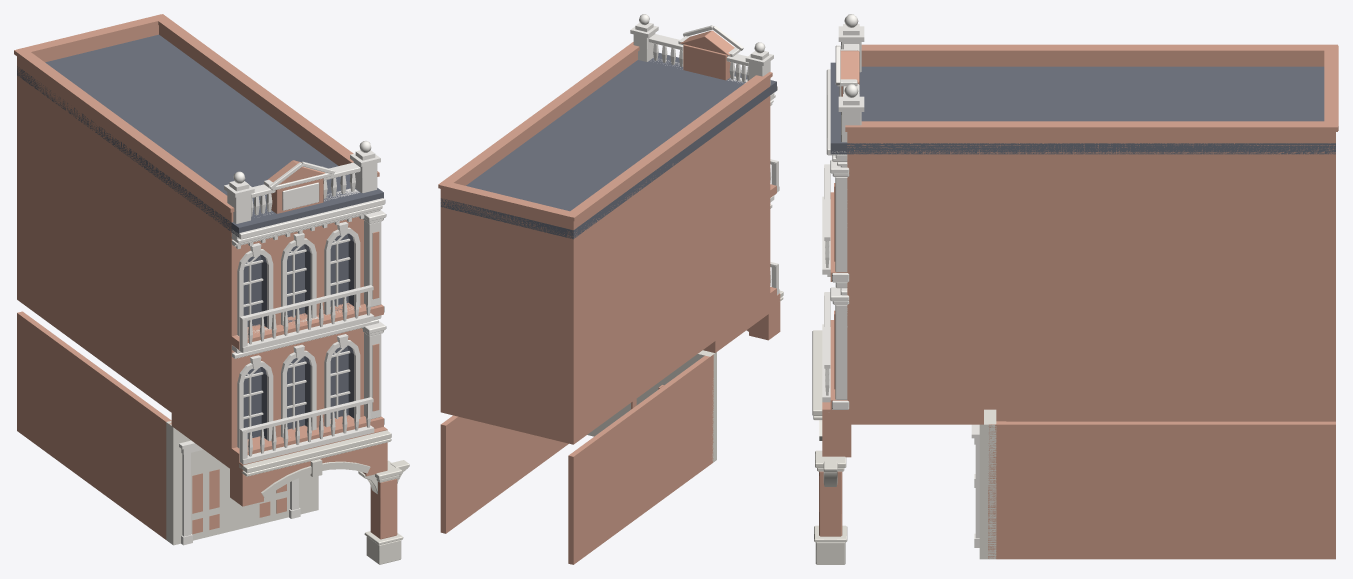
File: dihua-yang.glb
The picture shows the model from 3 angles, left to right: view 1: azimuth 30°, elevation 25°; view 2: azimuth 150°, elevation 25°; view 3: azimuth 270°, elevation 25°; orthographic projection. The views are drawn at different scales.
Parts seen in each view (by area): view 1: main, crest, storey; view 2: main, crest, storey; view 3: main, storey, crest.
Part boxes in pixels (x1,y1,x2,y2): main: (17, 187, 409, 564); crest: (14, 14, 385, 248); storey: (17, 75, 386, 352); main: (440, 195, 783, 564); crest: (438, 14, 777, 239); storey: (440, 93, 779, 341); main: (812, 282, 1335, 564); storey: (822, 154, 1335, 282); crest: (826, 14, 1338, 166).
Bounding box in the file's own units: 5.4 × 12.5 × 12.7.
